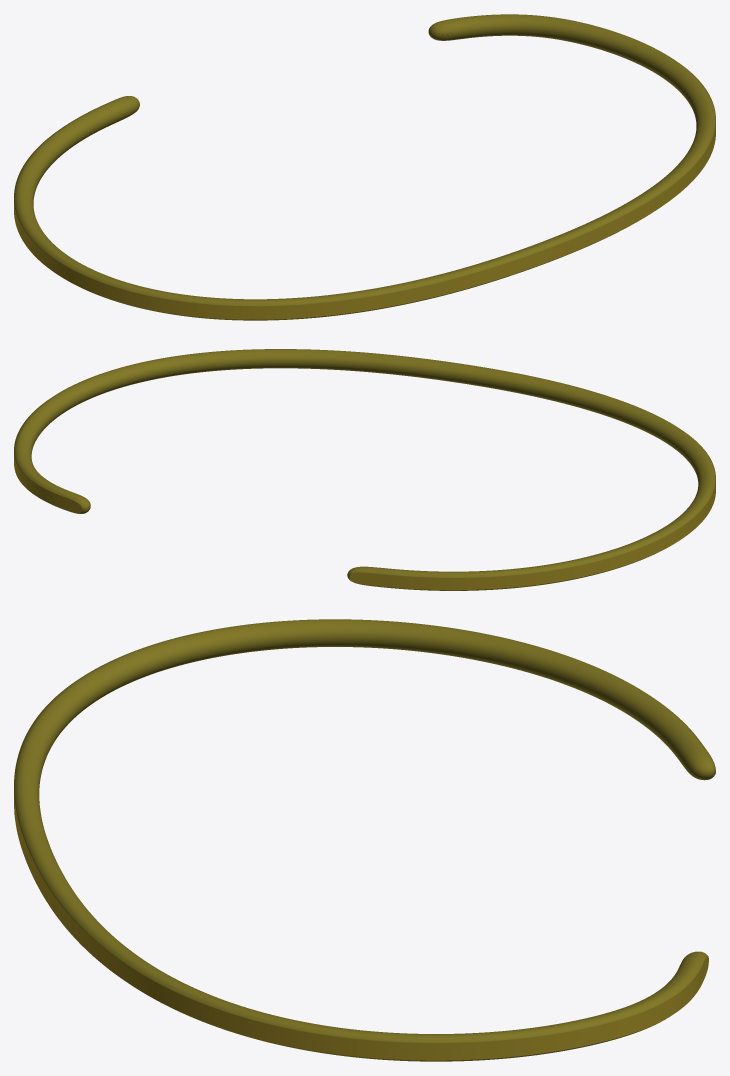
The model's file is light-gold24.glb.
3 renders of one model, top to bottom at view 1: azimuth 30°, elevation 25°; view 2: azimuth 150°, elevation 25°; view 3: azimuth 270°, elevation 25°, orthographic. The views are drawn at different scales.
Parts seen in each view (by area): view 1: lightbody.002, lightomote.002; view 2: lightbody.002, lightomote.002; view 3: lightbody.002, lightomote.002.
Part boxes in pixels (x1,y1,x2,y2): lightbody.002: (14,14,715,320); lightomote.002: (14,67,715,319); lightbody.002: (14,349,715,590); lightomote.002: (14,406,715,590); lightbody.002: (14,619,715,1061); lightomote.002: (14,689,715,1060).
Bounding box in the file's own units: 3.4 × 0.0938 × 2.39.
Materials: 2 (2 with a texture image).
